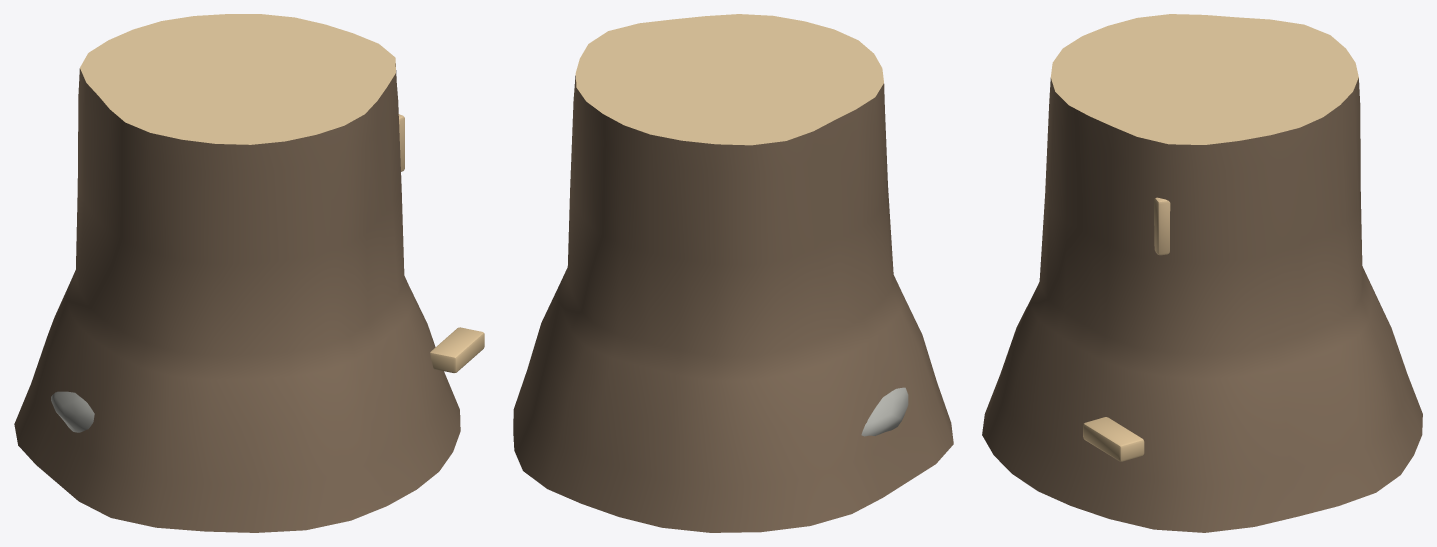
File: small_items.glb
The picture shows the model from 3 angles, left to right: view 1: azimuth 30°, elevation 25°; view 2: azimuth 150°, elevation 25°; view 3: azimuth 270°, elevation 25°; orthographic projection.
Parts seen in each view (by area): view 1: ChoppingStump, FlatStone; view 2: ChoppingStump, FlatStone; view 3: ChoppingStump.
Part boxes in pixels (x1,y1,x2,y2): ChoppingStump: [14, 14, 484, 532]; FlatStone: [51, 391, 94, 432]; ChoppingStump: [513, 14, 953, 532]; FlatStone: [861, 387, 908, 436]; ChoppingStump: [982, 14, 1422, 532].
Size of the model in its own units: 0.5857 by 0.52 by 0.5809.
